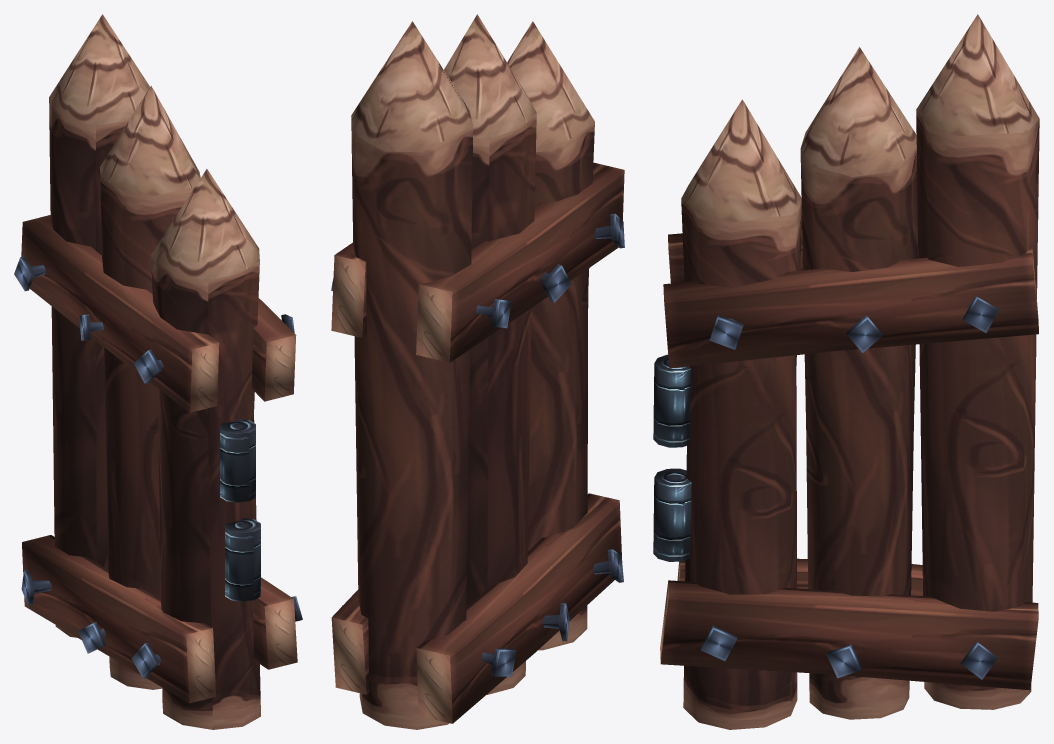
The model's file is wooden_gates.fbx.
3 renders of one model, left to right at view 1: azimuth 30°, elevation 25°; view 2: azimuth 150°, elevation 25°; view 3: azimuth 270°, elevation 25°, orthographic. The views are drawn at different scales.
Parts seen in each view (by area): view 1: gates_left_02; view 2: gates_left_02; view 3: gates_left_02.
Part boxes in pixels (bbox=[...]): gates_left_02: bbox=[14, 14, 302, 729]; gates_left_02: bbox=[331, 14, 624, 729]; gates_left_02: bbox=[653, 14, 1039, 729].
Bounding box in the file's own units: 2.57 × 9.49 × 4.81.
